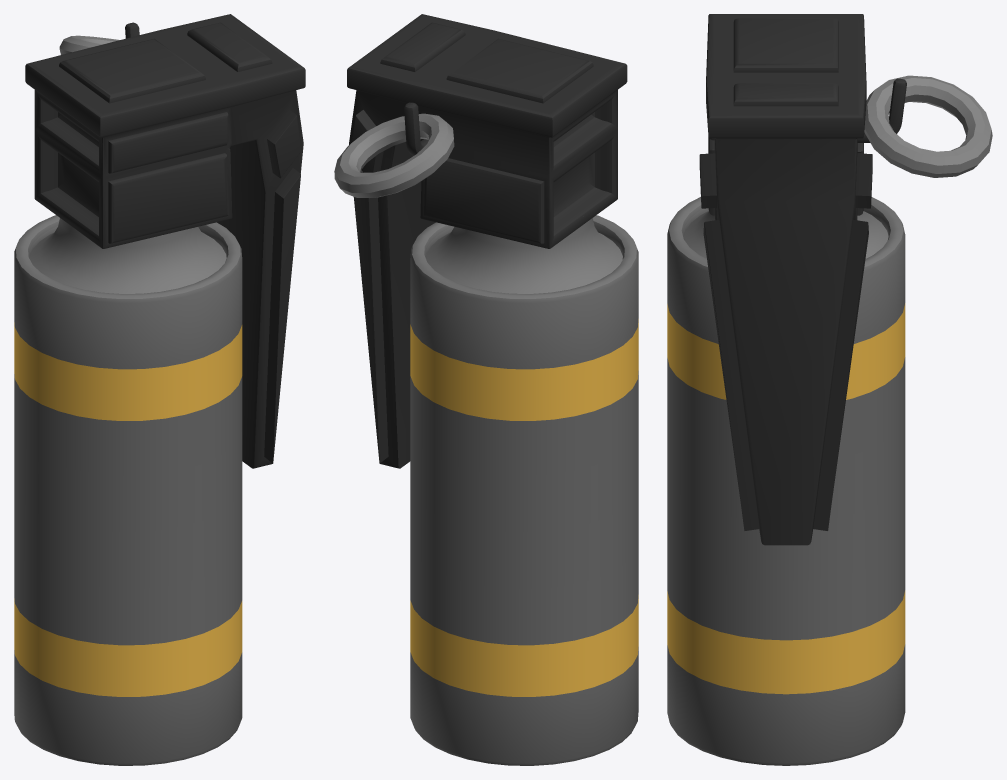
The model's file is smoke.fbx.
3 renders of one model, left to right at view 1: azimuth 30°, elevation 25°; view 2: azimuth 150°, elevation 25°; view 3: azimuth 270°, elevation 25°, orthographic. The views are drawn at different scales.
Visible parts, largest first — view 1: Cylinder.002; view 2: Cylinder.002; view 3: Cylinder.002.
Part boxes in pixels (x1,y1,x2,y2): Cylinder.002: (14, 14, 305, 765); Cylinder.002: (334, 14, 638, 765); Cylinder.002: (667, 14, 992, 765).
Bounding box in the file's own units: 21.79 × 56 × 24.33.
1 material, 1 textured.
